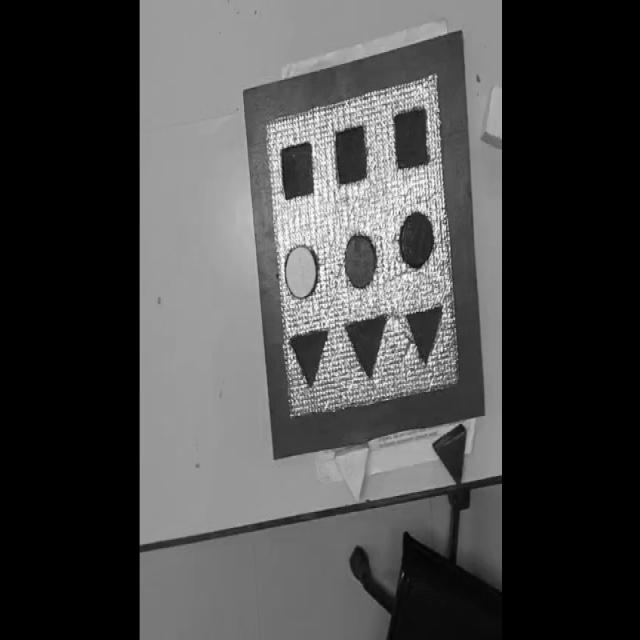bcircle: (398, 210, 434, 270)
mtcube: (393, 106, 429, 170), (280, 140, 314, 200), (336, 123, 368, 186)
mttriangle: (345, 313, 388, 380), (289, 329, 329, 388), (405, 304, 443, 366)
rcircle: (345, 233, 376, 288)
rtriangle: (433, 424, 467, 483)
wb: (266, 74, 458, 416)
ycircle: (284, 243, 318, 301)
ytriangle: (334, 442, 370, 504)
